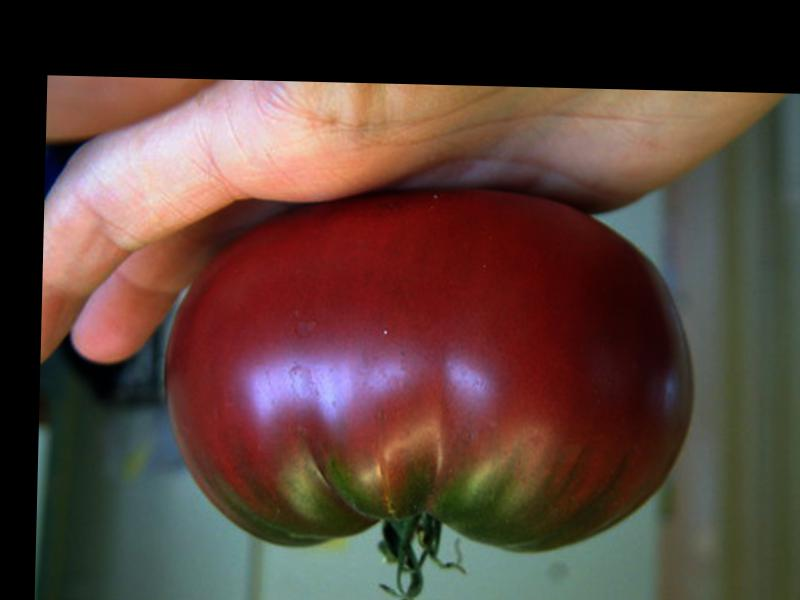Tomato: (161, 181, 698, 557)
